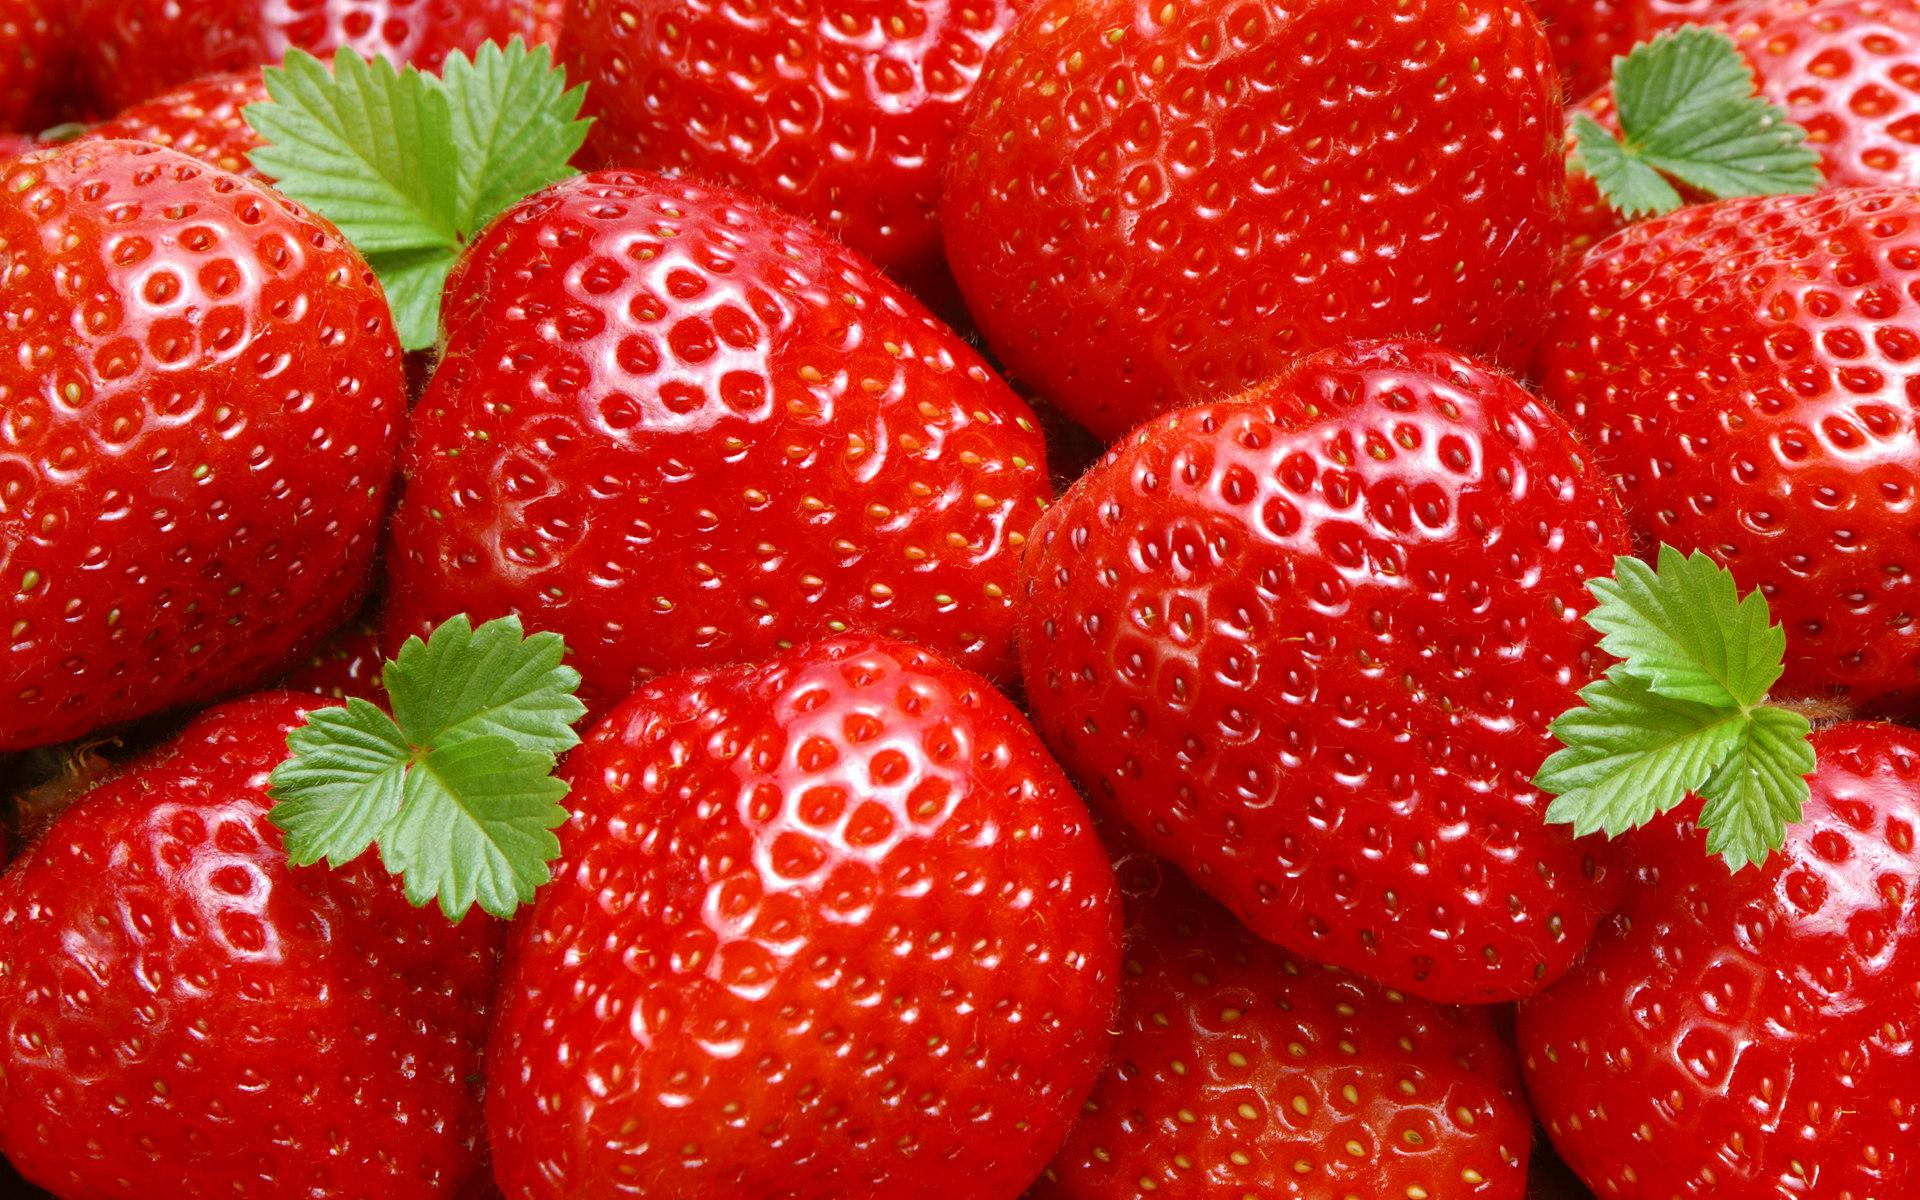strawberry: (1033, 335, 1677, 983), (446, 635, 1129, 1200), (393, 158, 1056, 671), (1, 130, 401, 737), (17, 686, 482, 1200), (950, 4, 1584, 366), (1574, 176, 1920, 684)
